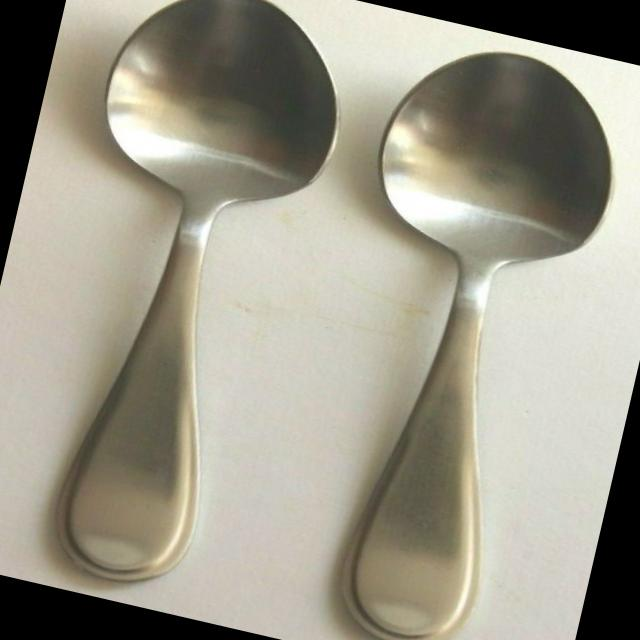spoon: (0, 0, 373, 622)
